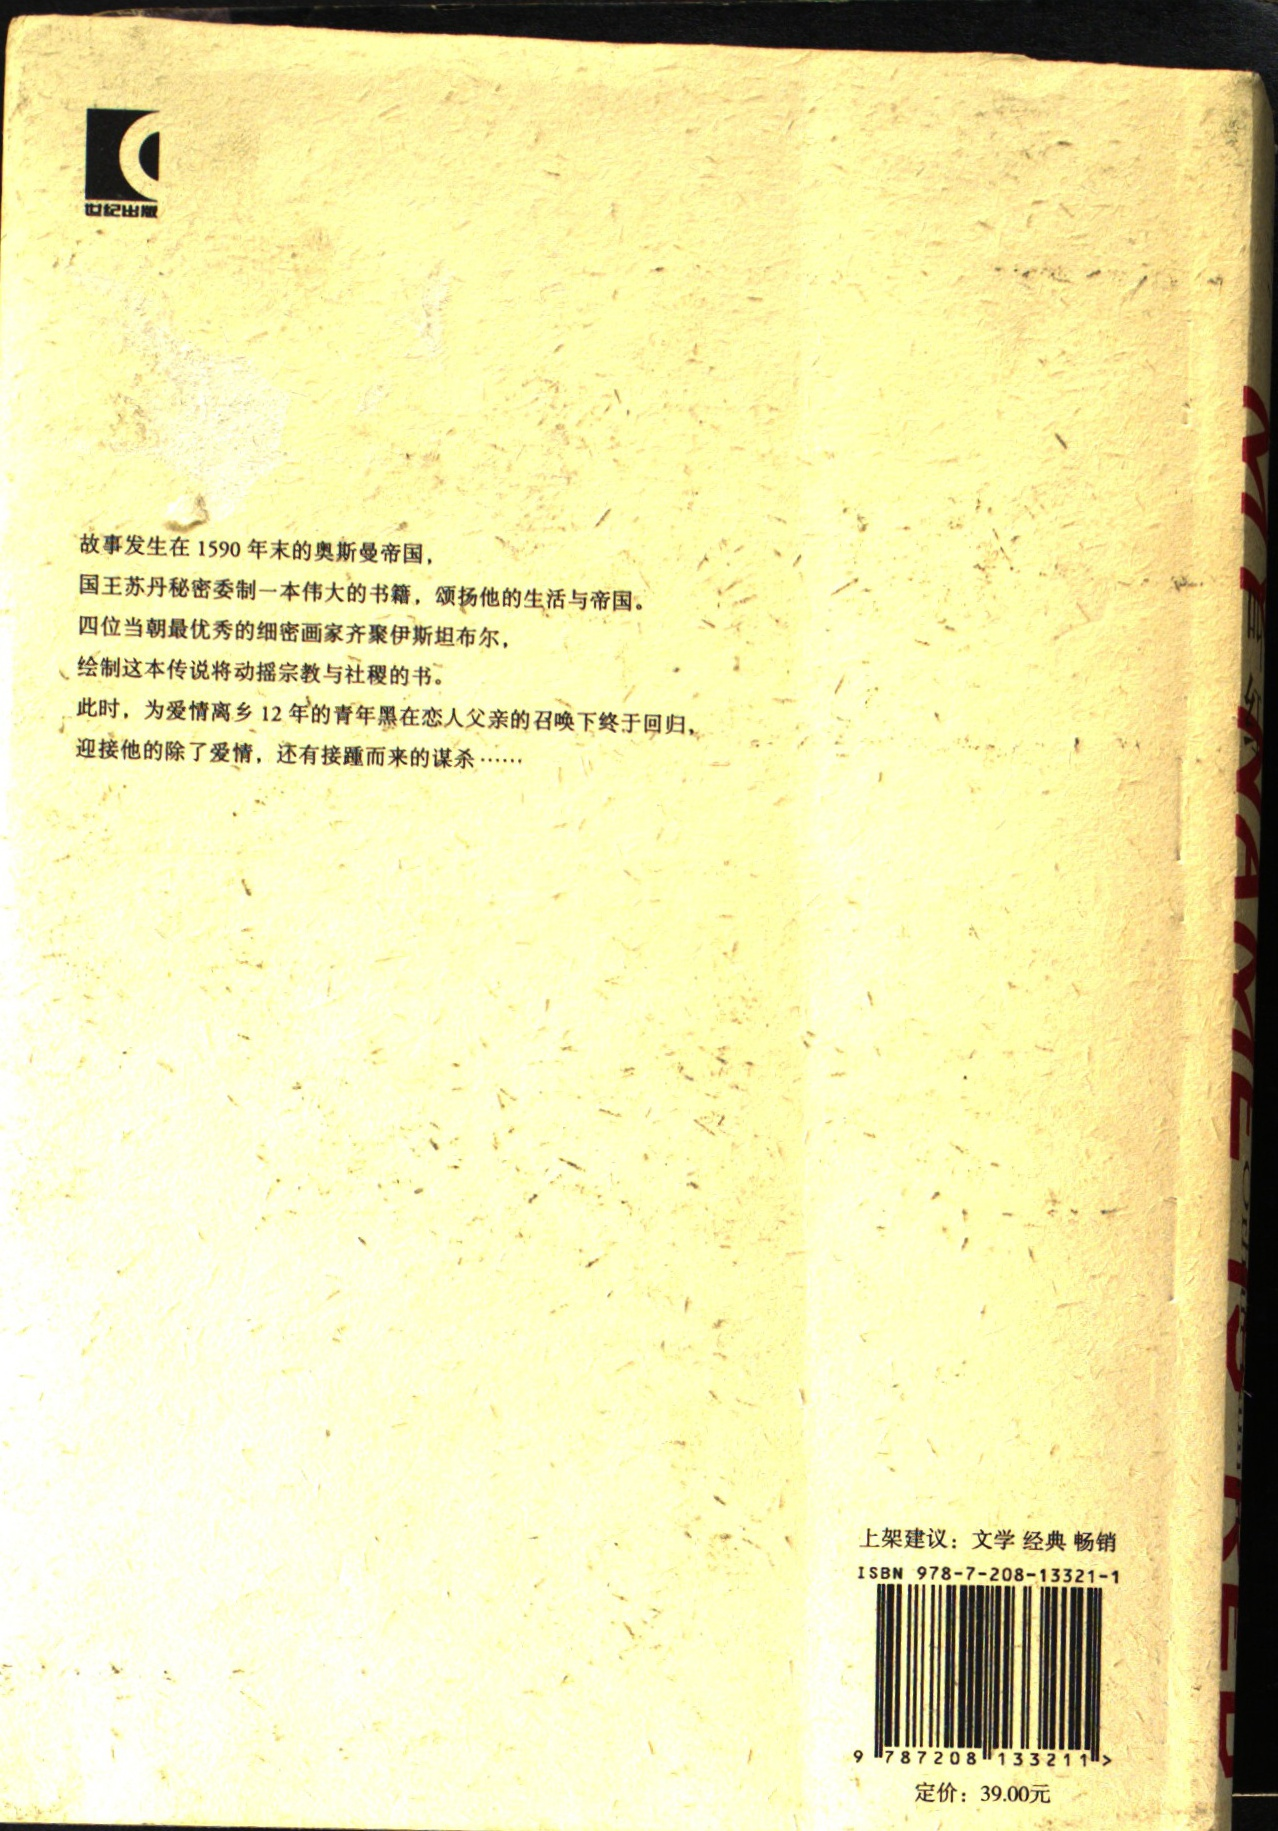barcode: (814, 1568, 1138, 1775)
